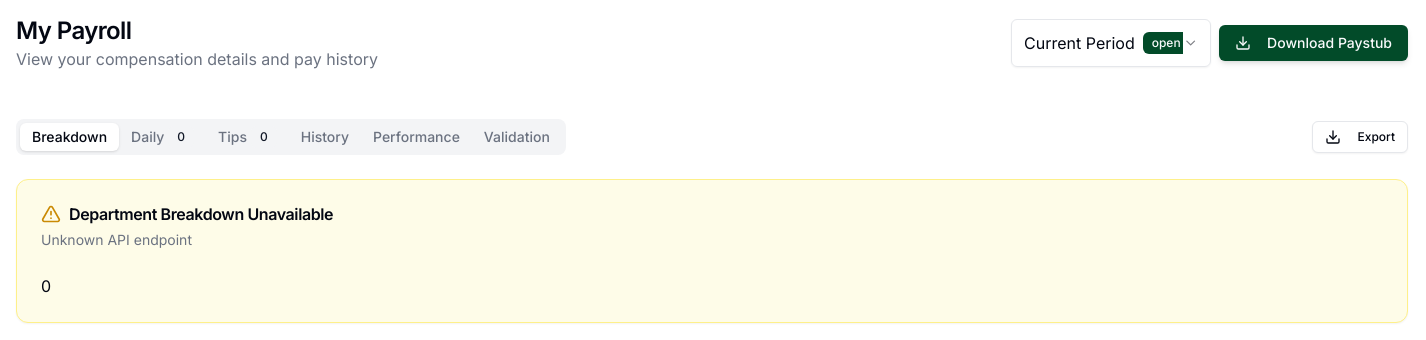
Scenario: Wingman Payroll Access › Time period filtering functionality › should allow wingman to filter by previous pay period
Check: the heading "My Payroll" is shown, box [16,16,132,45]
Click to open pay period selector
Step 1. Click the dropdown → x=1111, y=43, box [1011,19,1211,67]
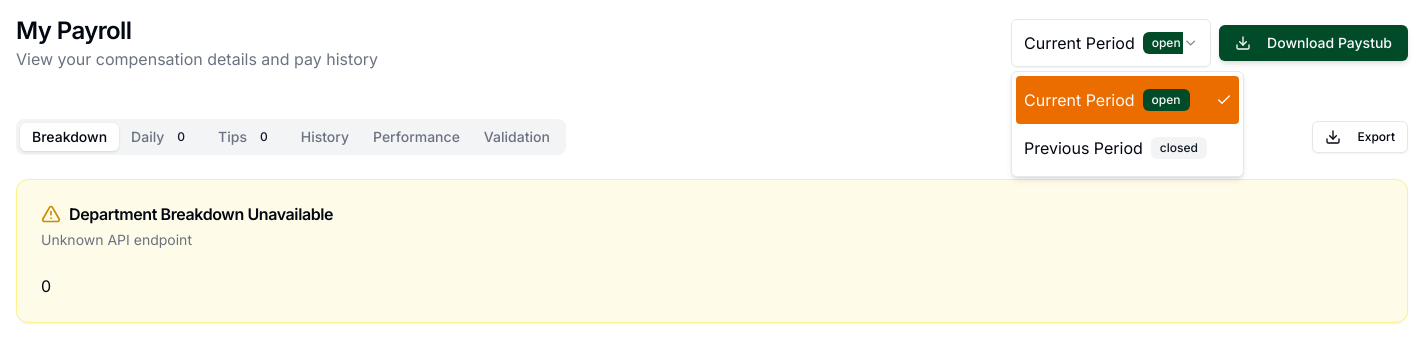
Check: the text "Previous Period" is shown, box [1024,136,1143,160]
